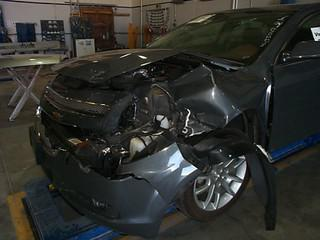bonnet-dent: (47, 45, 206, 82)
fender-dent: (176, 82, 272, 136)
front-bumper-dent: (31, 128, 177, 232)
